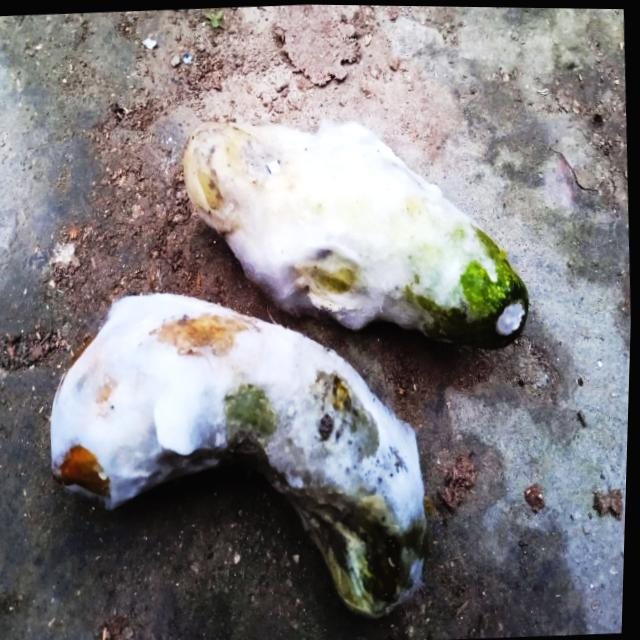Pythium-Fruit-Rot: (44, 280, 439, 596), (217, 113, 507, 336)
